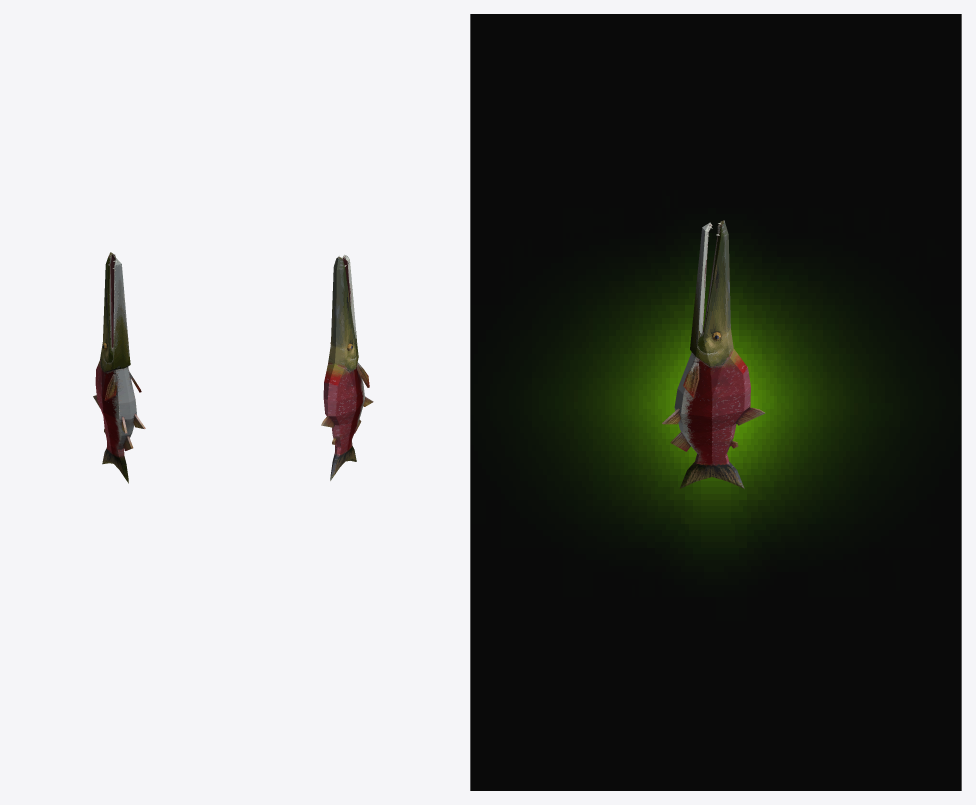
Rendered from item_fish_salmonster.glb.
3 views of the same model, side by side, from view 1: azimuth 30°, elevation 25°; view 2: azimuth 150°, elevation 25°; view 3: azimuth 270°, elevation 25° (orthographic). The views are drawn at different scales.
Parts seen in each view (by area): view 1: fish_salmon_mutated; view 2: fish_salmon_mutated; view 3: Quad, fish_salmon_mutated.
Boxes of the visible parts, x1,y1,x2,y2 form: fish_salmon_mutated: (93, 252, 145, 483); fish_salmon_mutated: (321, 254, 373, 480); Quad: (470, 14, 961, 790); fish_salmon_mutated: (662, 220, 765, 488).
Size of the model in its own units: 0.1235 by 2 by 1.15.
Materials: 2 (2 with a texture image).
